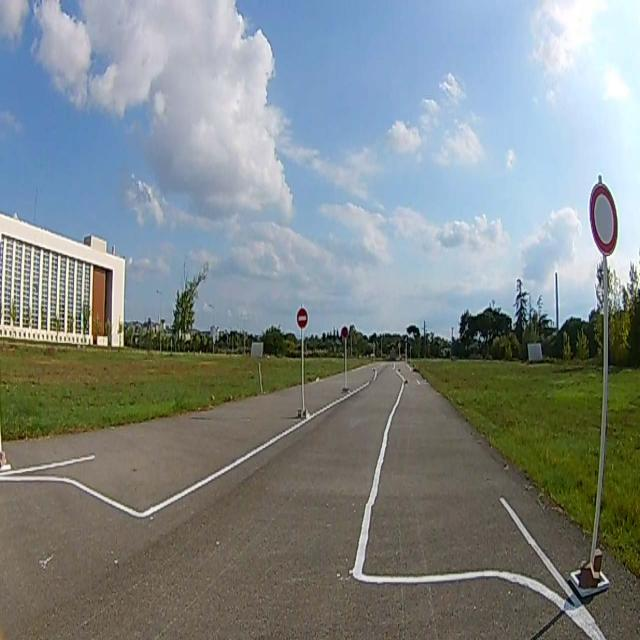girisyok: (296, 308, 308, 328)
